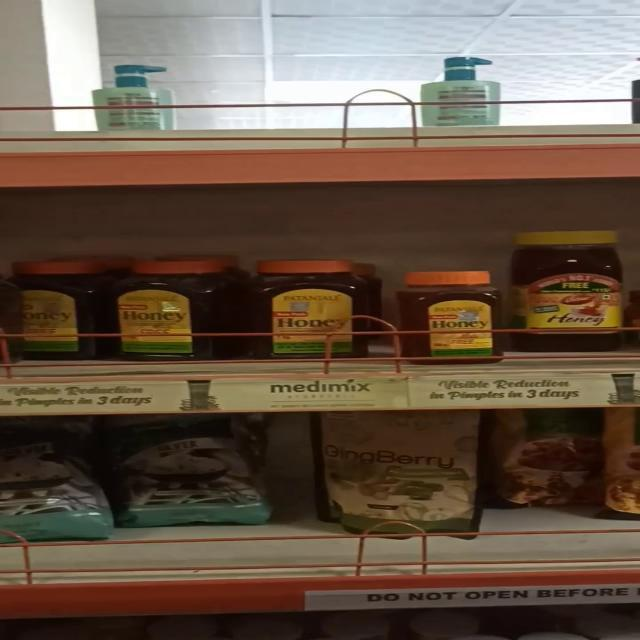Dabur Honey: (515, 223, 640, 341)
Patanjali Honey: (252, 253, 362, 350), (106, 255, 216, 352), (406, 262, 509, 362), (15, 255, 101, 360)
